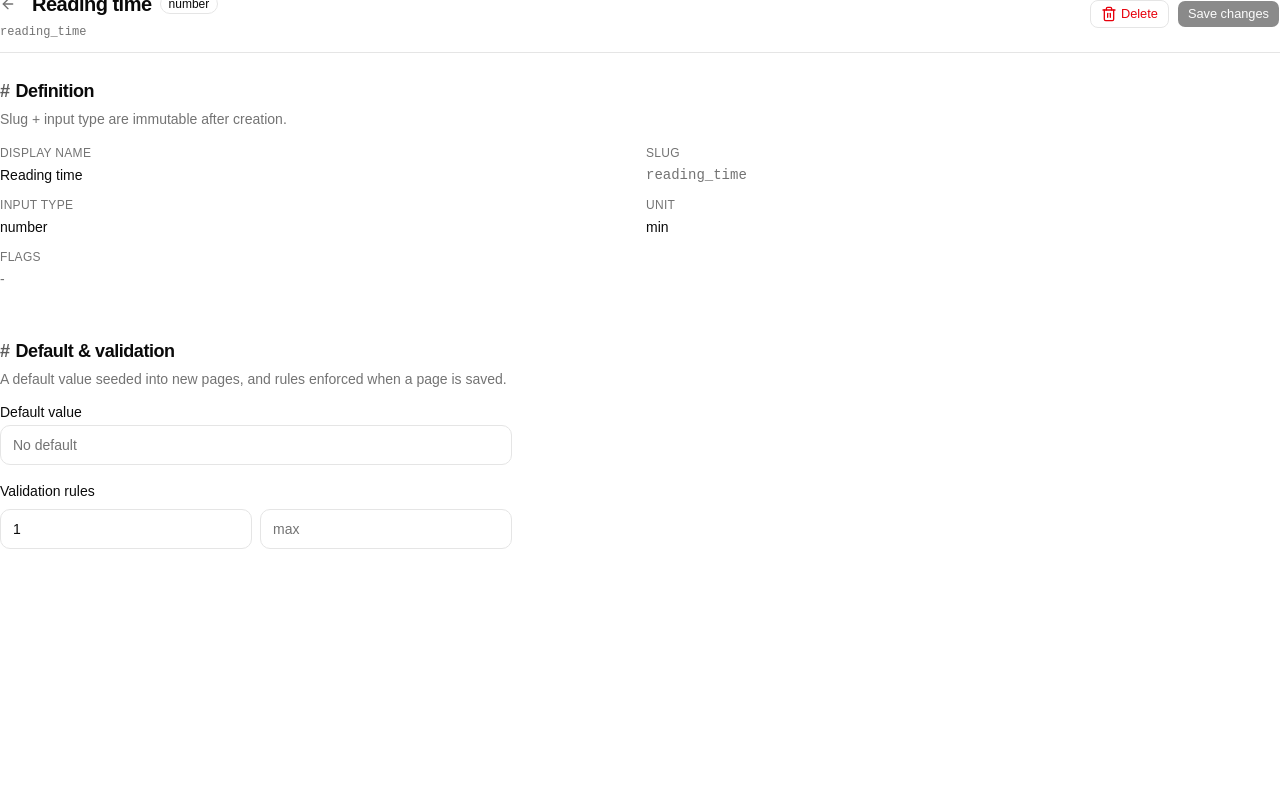
Test case: CmsAttributeDetail delete › keeps the dialog open and shows a refused delete
What coordinates should you click on to do the following:
click the button "Delete"
I would click on:
 (1129, 14)
Its box is [1090, 0, 1169, 28].
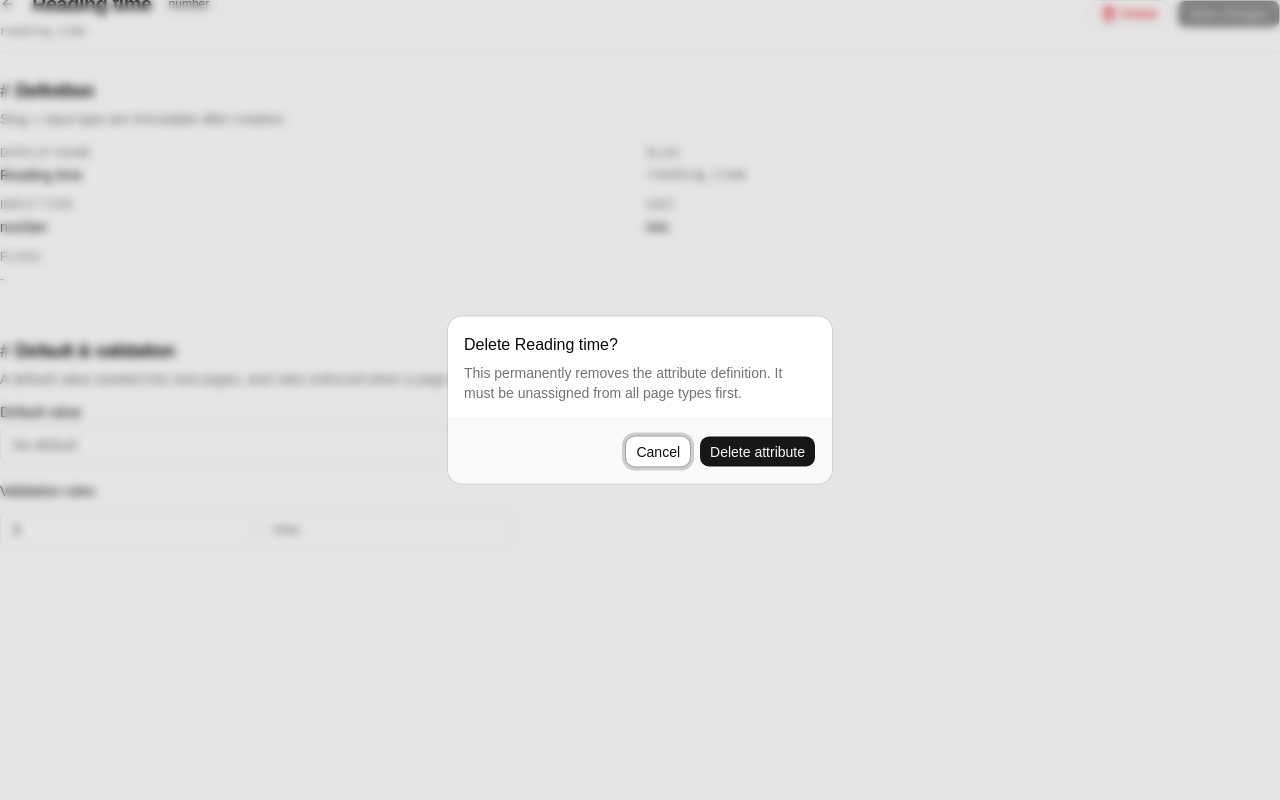
What coordinates should you click on to do the following:
click the button "Delete attribute"
I would click on:
 (758, 452)
Its box is [699, 436, 816, 468].
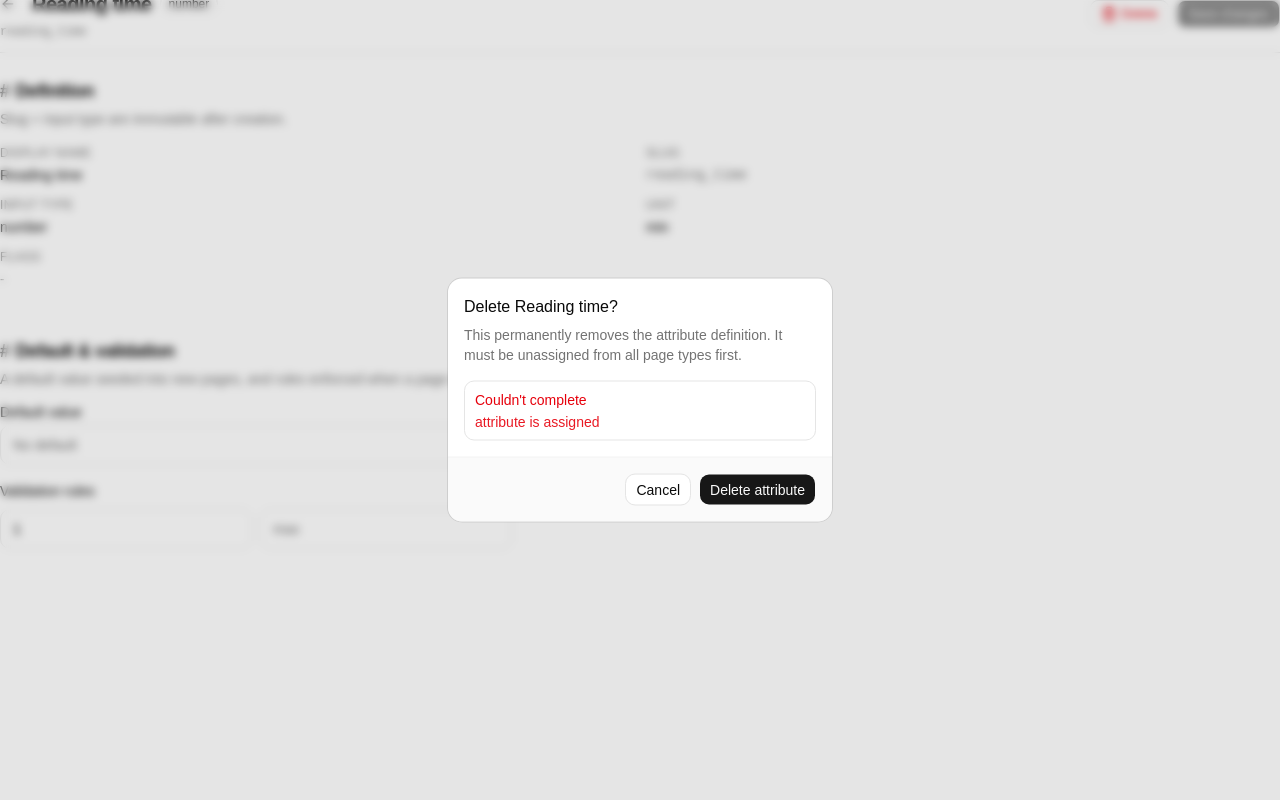
Check: the text "attribute is assigned" is shown, box [475, 414, 600, 430]
